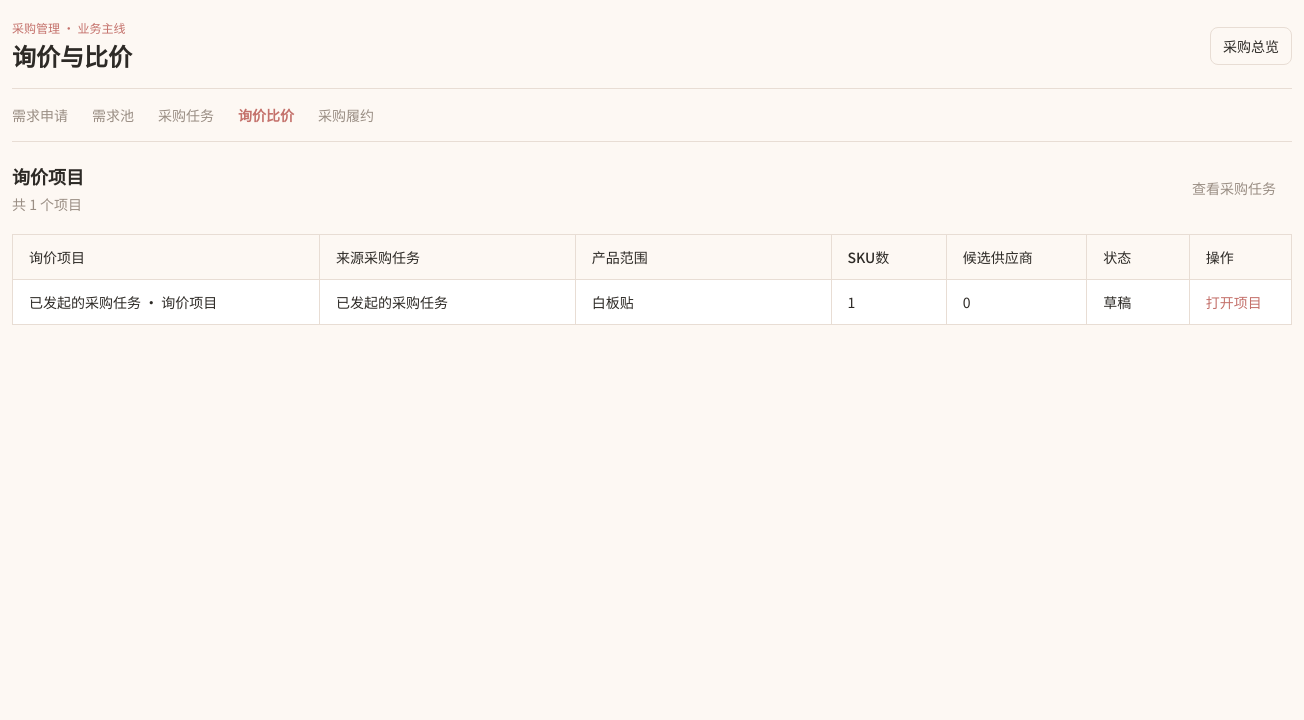
it: shows inquiry projects as a list first and opens details only after selecting a project
Expected: the heading "询价项目" is shown, [12,162,84,190]
Expected: the text "已发起的采购任务 · 询价项目" is shown, [12,280,320,324]
Click the button "打开项目" at [1234, 302], box [1206,292,1262,312]
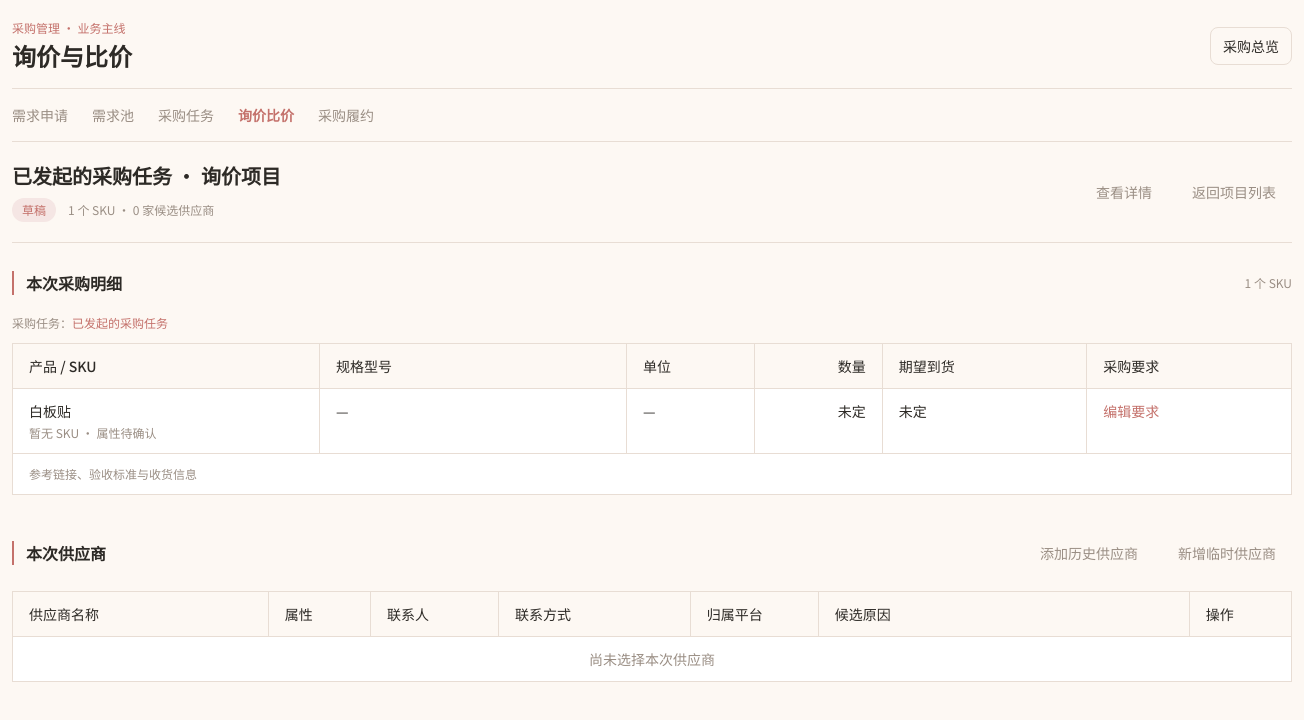
Expected: the heading "本次采购明细" is shown, [12,271,122,295]
